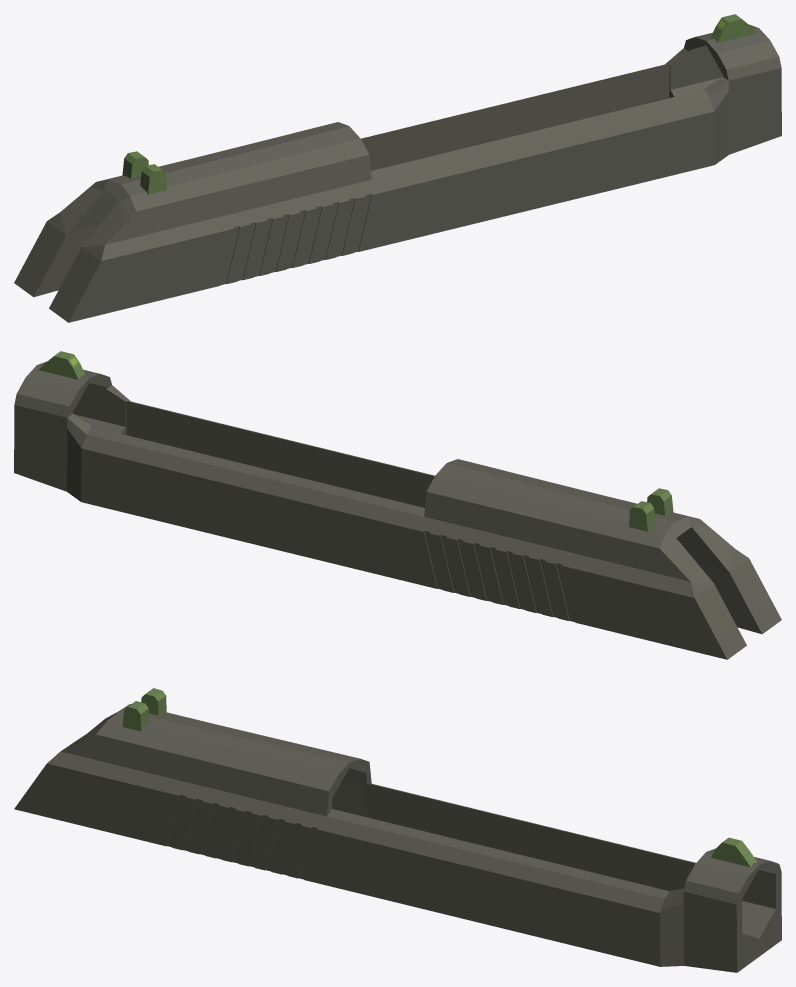
File: Pistol1_01_2.fbx
The picture shows the model from 3 angles, top to bottom: view 1: azimuth 30°, elevation 25°; view 2: azimuth 150°, elevation 25°; view 3: azimuth 330°, elevation 25°; orthographic projection.
Parts seen in each view (by area): view 1: Pistol1_01_2; view 2: Pistol1_01_2; view 3: Pistol1_01_2.
Part boxes in pixels (<box>): Pistol1_01_2: <box>14,14,781,322</box>; Pistol1_01_2: <box>14,351,781,659</box>; Pistol1_01_2: <box>14,688,781,972</box>.
Bounding box in the file's own units: 0.2348 × 0.0363 × 0.0308.
